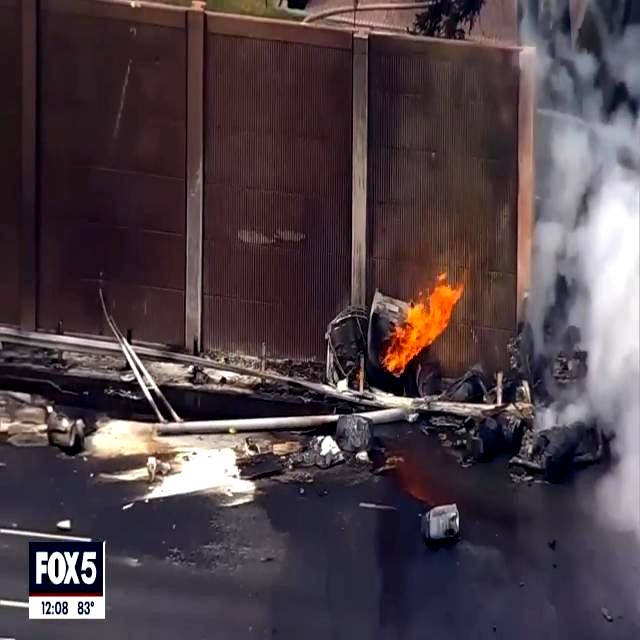fire: (382, 270, 468, 378)
